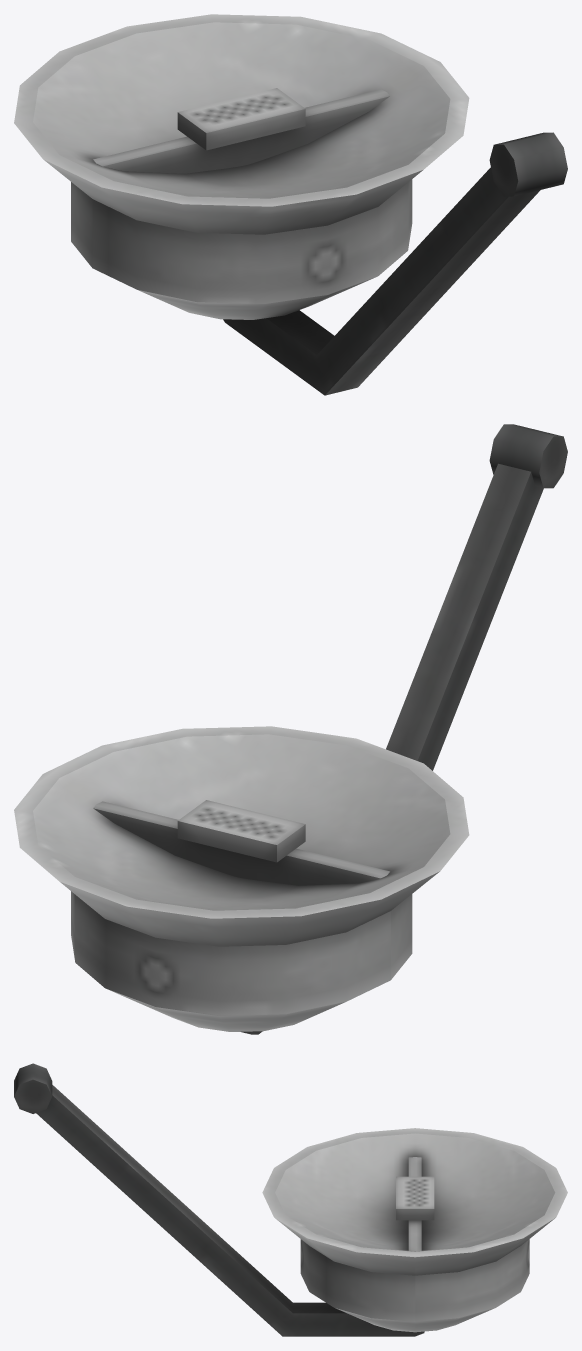
Rendered from octans_high_gain_antenna_srf_1.obj.
3 views of the same model, one above another, from view 1: azimuth 30°, elevation 25°; view 2: azimuth 150°, elevation 25°; view 3: azimuth 270°, elevation 25° (orthographic). The views are drawn at different scales.
Parts seen in each view (by area): view 1: mesh; view 2: mesh; view 3: mesh.
Part boxes in pixels (left/top/right/bottom): mesh: left=14, top=14, right=567, bottom=395; mesh: left=14, top=424, right=567, bottom=1034; mesh: left=14, top=1063, right=567, bottom=1336.
Size of the model in its own units: 0.3 by 0.2812 by 0.5437.
Materials: 1 (1 with a texture image).
